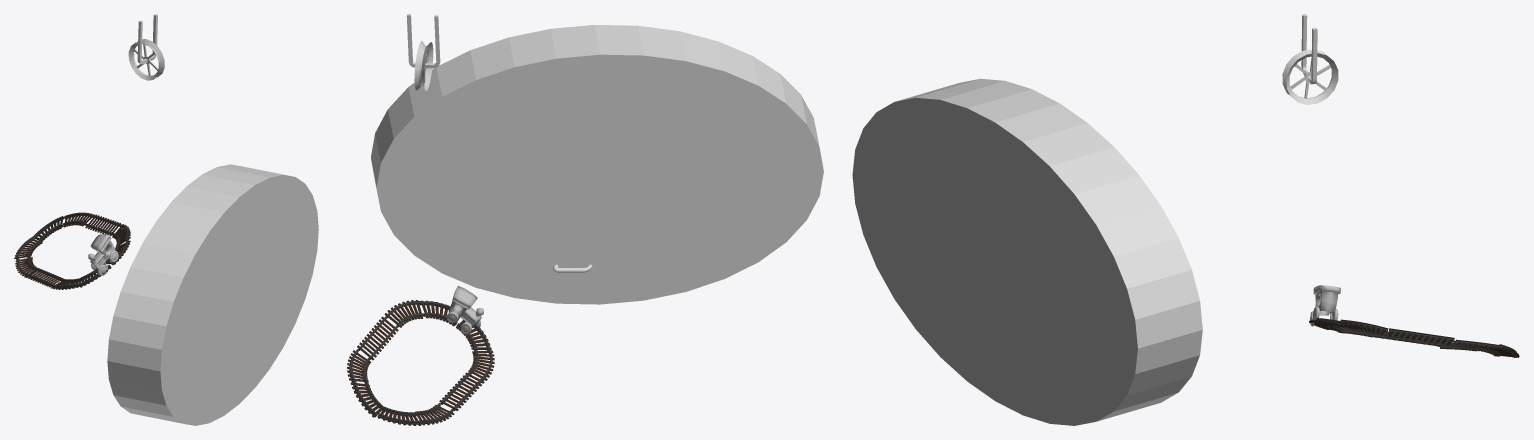
The model's file is trainDoor.fbx.
The picture shows the model from 3 angles, left to right: view 1: azimuth 30°, elevation 25°; view 2: azimuth 150°, elevation 25°; view 3: azimuth 270°, elevation 25°; orthographic projection. The views are drawn at different scales.
Visible parts, largest first — view 1: door, Circle.001, pasted__pCube14, Railroad14, polea, Railroad14.001, Railroad2.006, Railroad2.007, Railroad2.005, Railroad2.004; view 2: door, pasted__pCube14, Railroad14.001, Railroad14, Circle.001, Railroad2, Railroad2.006, Railroad2.003, polea, Railroad2.007, Railroad2.005, Railroad2.004 (+2 smaller); view 3: door, Circle.001, pasted__pCube14, polea.
Part boxes in pixels (left/top/right/bottom): door: left=107, top=164, right=318, bottom=425; Circle.001: left=128, top=39, right=164, bottom=80; pasted__pCube14: left=88, top=234, right=118, bottom=275; Railroad14: left=84, top=214, right=120, bottom=236; polea: left=137, top=14, right=157, bottom=64; Railroad14.001: left=25, top=267, right=63, bottom=287; Railroad2.006: left=33, top=216, right=64, bottom=242; Railroad2.007: left=62, top=212, right=94, bottom=227; Railroad2.005: left=14, top=236, right=42, bottom=259; Railroad2.004: left=15, top=255, right=36, bottom=277; door: left=371, top=25, right=823, bottom=304; pasted__pCube14: left=446, top=286, right=483, bottom=334; Railroad14.001: left=439, top=371, right=484, bottom=411; Railroad14: left=357, top=316, right=398, bottom=360; Circle.001: left=414, top=41, right=433, bottom=91; Railroad2: left=384, top=300, right=424, bottom=327; Railroad2.006: left=350, top=379, right=384, bottom=417; Railroad2.003: left=468, top=348, right=494, bottom=380; polea: left=406, top=14, right=440, bottom=68; Railroad2.007: left=347, top=349, right=371, bottom=382; Railroad2.005: left=377, top=406, right=422, bottom=425; Railroad2.004: left=415, top=403, right=454, bottom=425; door: left=852, top=78, right=1202, bottom=425; Circle.001: left=1282, top=49, right=1338, bottom=104; pasted__pCube14: left=1310, top=285, right=1340, bottom=326; polea: left=1301, top=14, right=1317, bottom=84.
Size of the model in its own units: 1185 by 1137 by 1733.
